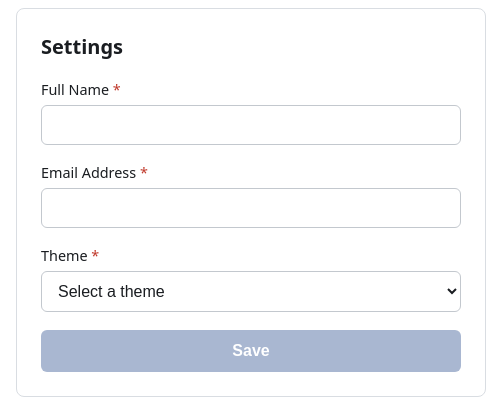
Test: SettingsForm › keeps the Save button disabled until all fields are valid
The image size is (503, 414).
Expected: the button "Save" is disabled, [41,330,461,372]
In the field labelled "Full Name *": (251, 125) [41,105,461,145], type "Suff Sufiyan"
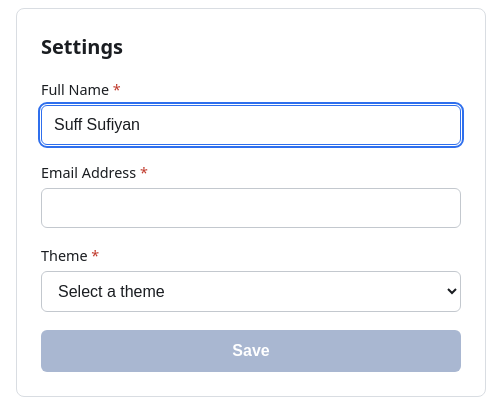
Expected: the button "Save" is disabled, [41,330,461,372]
In the field labelled "Email Address *": (251, 208) [41,188,461,228], type "notanemail"
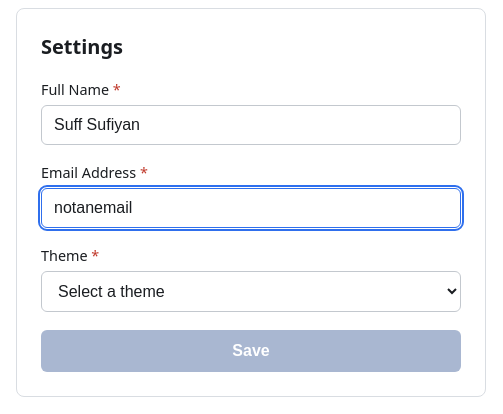
Expected: the button "Save" is disabled, [41,330,461,372]
Replace the text in the field labelled "Email Address *" with "suff@example.com": (251, 208) [41,188,461,228]
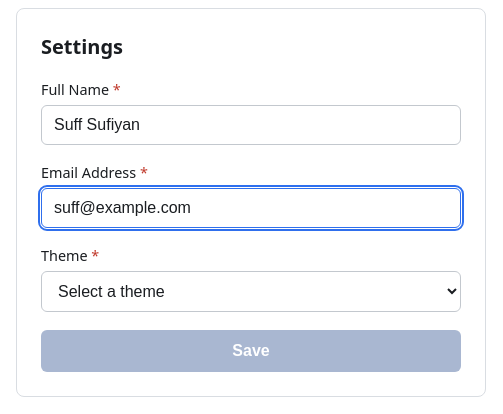
Expected: the button "Save" is disabled, [41,330,461,372]
Select "Dark" in the dropdown labelled "Theme *": (251, 292) [41,271,461,312]
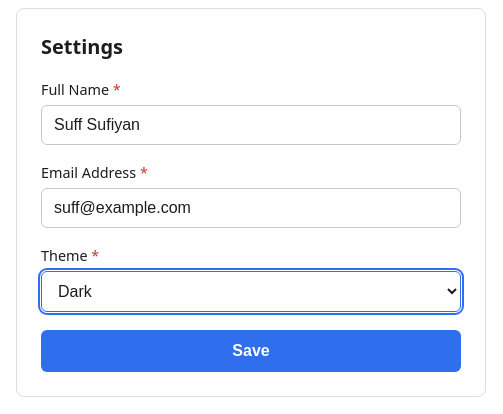
Result: the button "Save" is enabled at [41,330,461,372]
